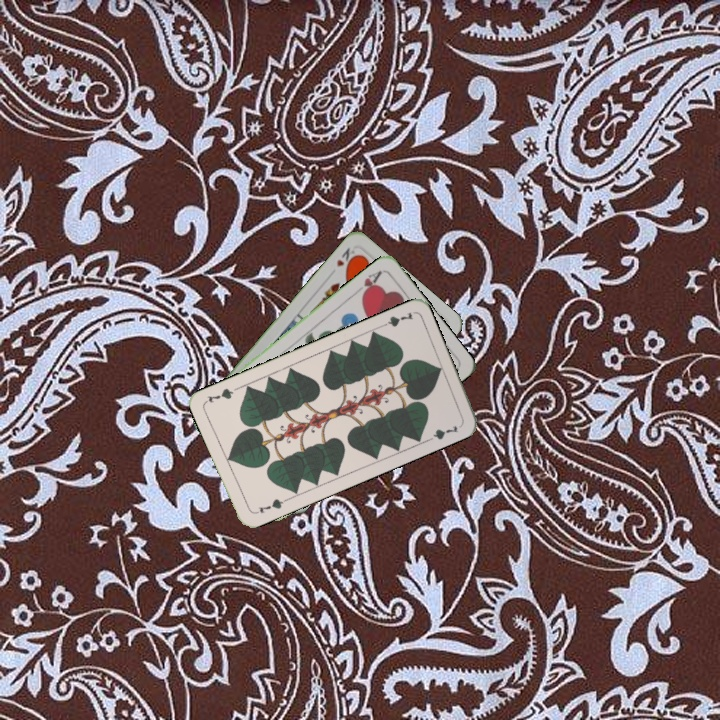G7: (250, 494, 289, 517), (376, 308, 416, 330)
HA: (350, 267, 385, 299)
HK: (332, 243, 361, 271)
